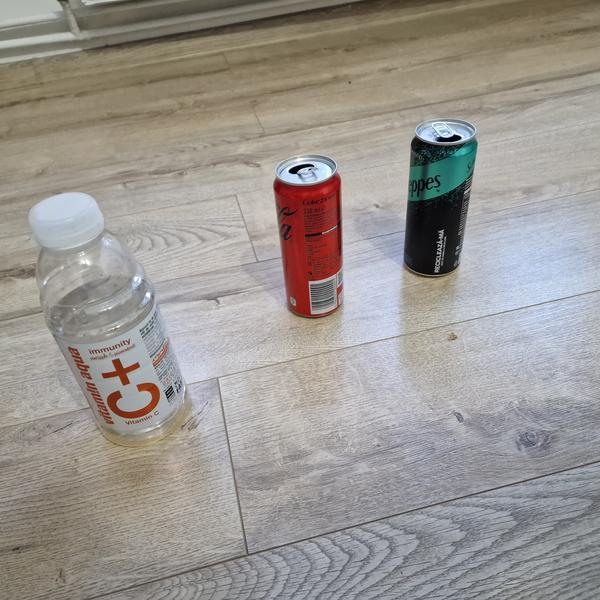can: (269, 150, 358, 323), (402, 114, 479, 280)
plastic_bottle: (5, 173, 207, 465)
